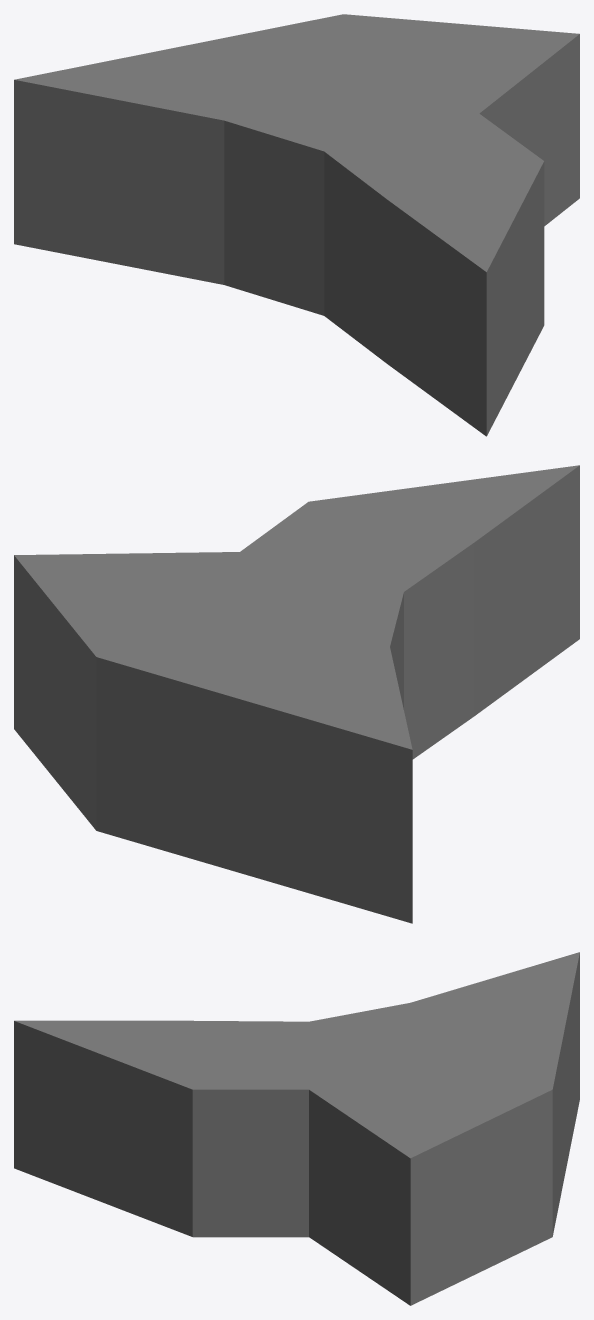
File: base_destroyed_6.glb
3 renders of one model, top to bottom at view 1: azimuth 30°, elevation 25°; view 2: azimuth 150°, elevation 25°; view 3: azimuth 270°, elevation 25°, orthographic. The views are drawn at different scales.
Parts seen in each view (by area): view 1: base_destroyed_6; view 2: base_destroyed_6; view 3: base_destroyed_6.
Part boxes in pixels (<box>): base_destroyed_6: <box>14,14,579,436</box>; base_destroyed_6: <box>14,465,579,923</box>; base_destroyed_6: <box>14,952,579,1305</box>.
Bounding box in the file's own units: 0.6 × 0.2 × 0.6953.
1 material, 1 textured.
